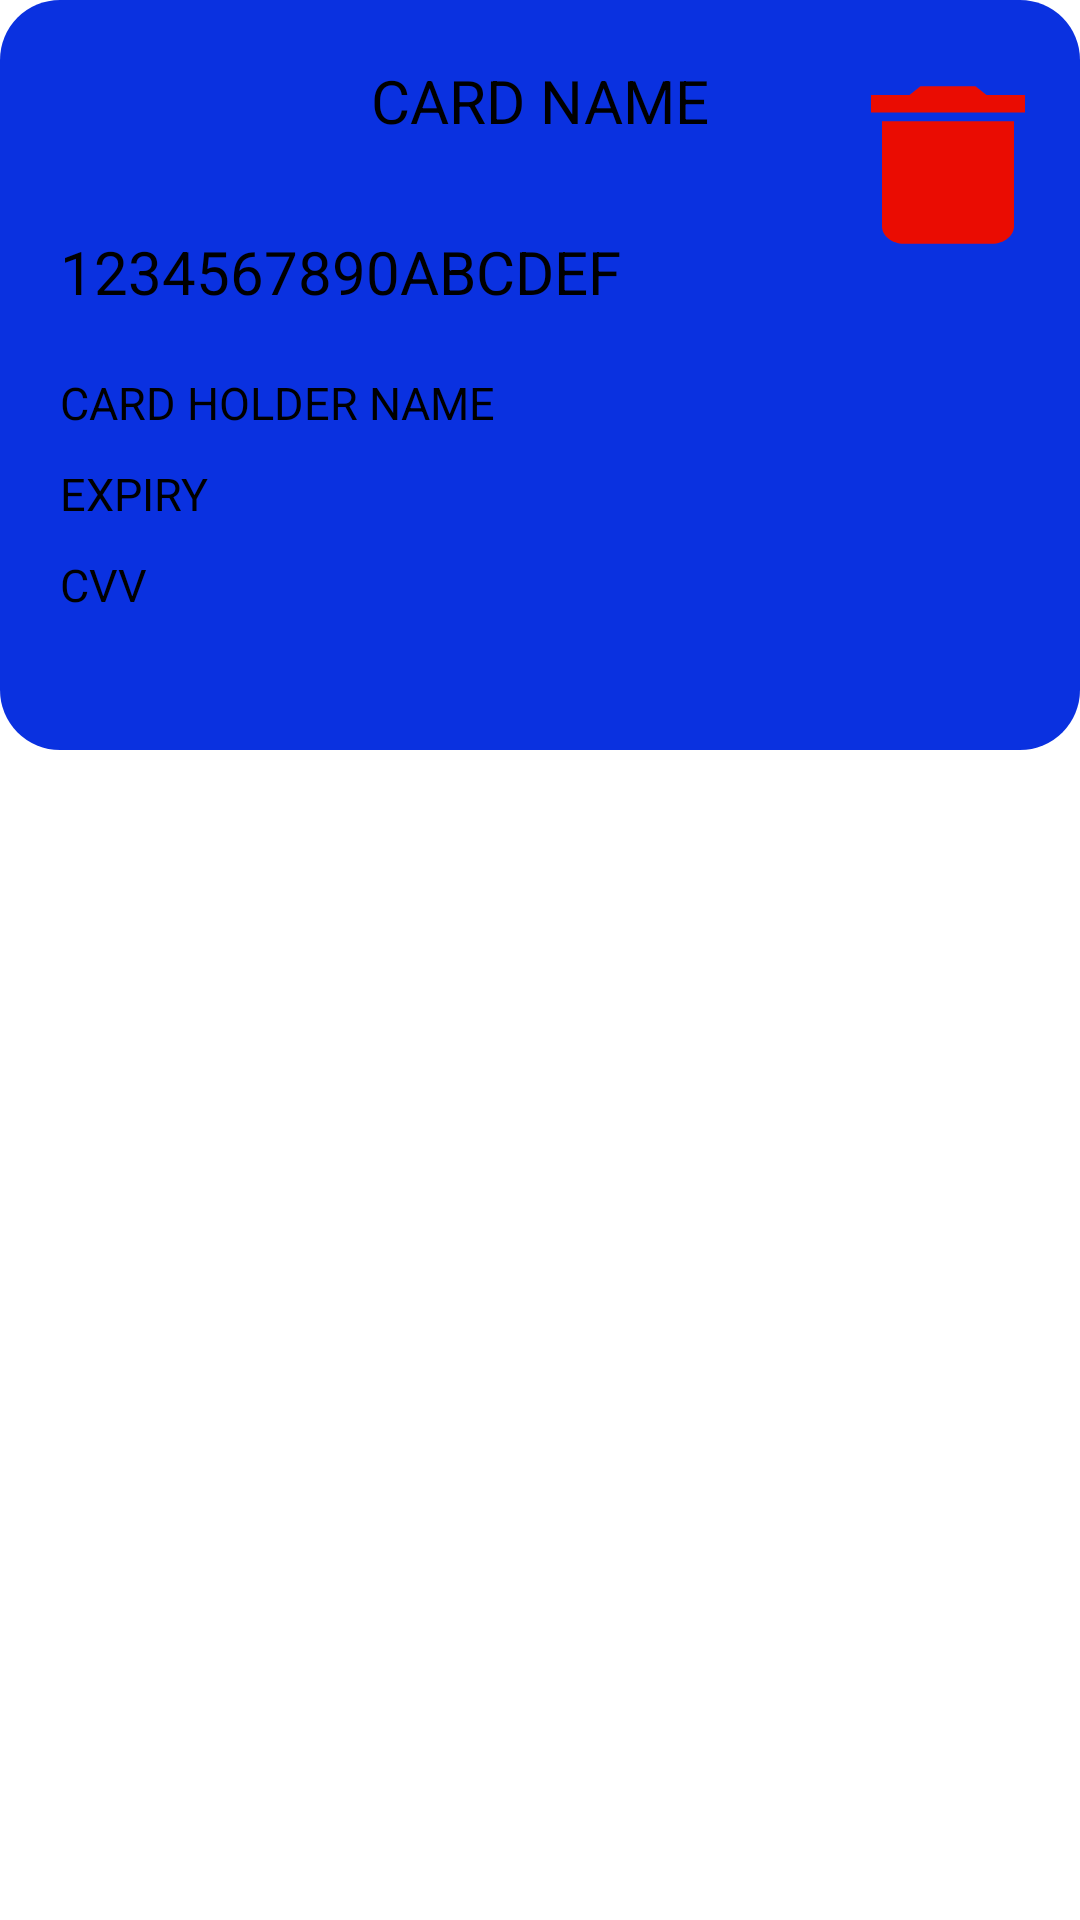

Icons on this 1080px x 1920px Android screen, each with the point to tap as (x,y):
delete: (948,165)
